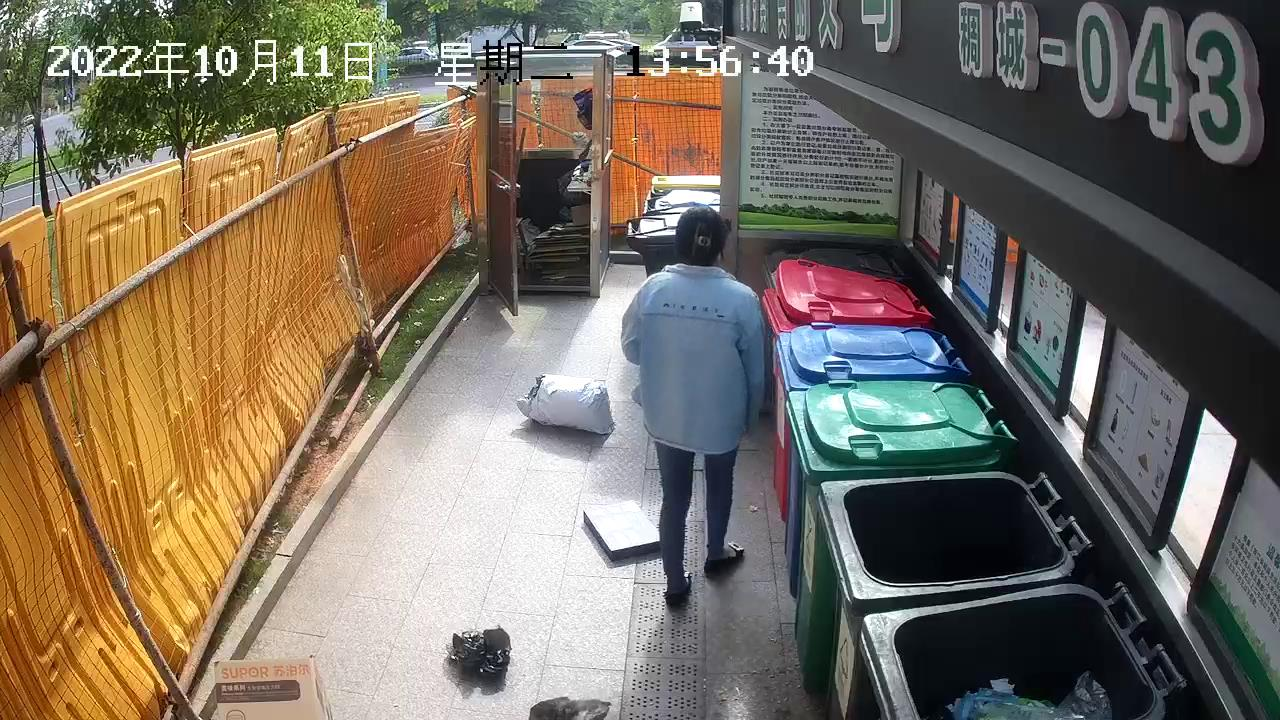garbage: (508, 369, 625, 442), (446, 619, 515, 682)
worker: (615, 199, 775, 612)
zhizhipin: (208, 651, 340, 720), (580, 497, 664, 562)
